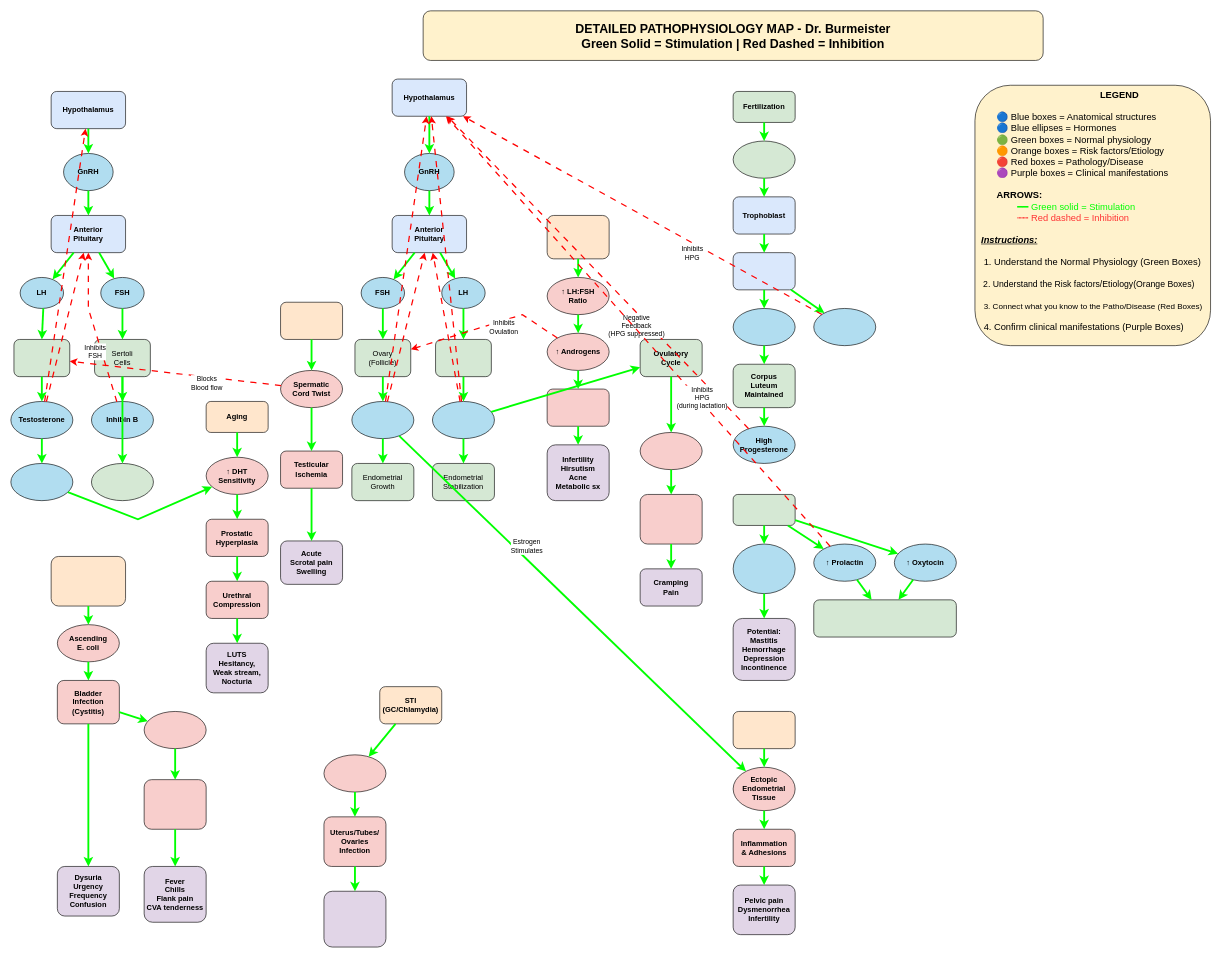
The diagram is 1221 pixels wide and 958 high, and some of its shapes have lost their labels. The shapes that lost their labels are listed below. From the top down, each one's centre as x and y in pixels, then its label:
At point 764,159: "Implantation".
At point 578,237: "Genetic + Insulin Resistance".
At point 764,271: "Placenta".
At point 311,320: "Congenital/ Trauma".
At point 764,327: "hCG".
At point 844,327: "High Estrogen".
At point 41,358: "Leydig Cells".
At point 463,358: "Corpus Luteum".
At point 382,420: "Estrogen".
At point 463,420: "Progesterone".
At point 578,407: "Anovulation + Cysts".
At point 671,451: "↑ Prostaglandins".
At point 41,482: "DHT (in prostate)".
At point 122,482: "Spermatogenesis".
At point 671,519: "Uterine Hypercontraction & Ischemia".
At point 764,509: "Delivery".
At point 88,581: "Risk Factors (Female anatomy, Catheter, DM)".
At point 764,568: "Drop in Estrogen/ Progesterone".
At point 884,618: "Lactation".
At point 175,730: "Upward Spread".
At point 764,730: "Retrograde Menstruation".
At point 354,773: "Ascending from Cervix".
At point 175,804: "Renal Pelvis/ Parenchyma Infection".
At point 354,919: "Pelvic pain Fever Discharge Infertility risk".
